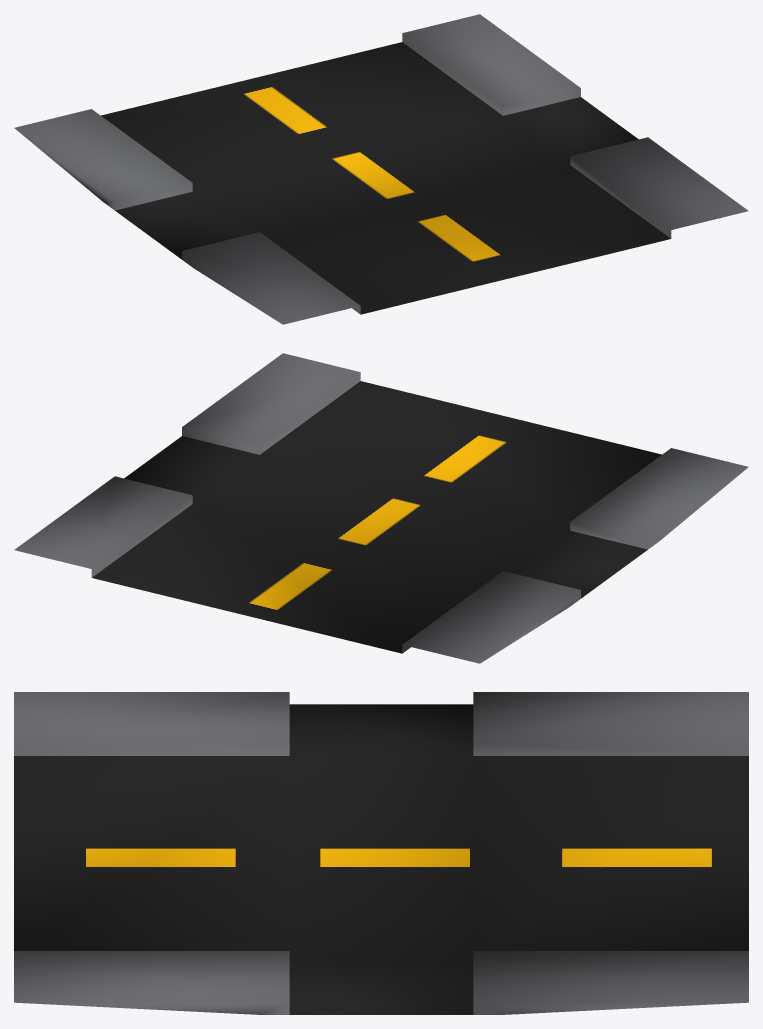
The model's file is Cross.fbx.
The picture shows the model from 3 angles, top to bottom: view 1: azimuth 30°, elevation 25°; view 2: azimuth 150°, elevation 25°; view 3: azimuth 270°, elevation 25°; orthographic projection. The views are drawn at different scales.
Visible parts, largest first — view 1: Cross; view 2: Cross; view 3: Cross.
Boxes of the visible parts, x1,y1,x2,y2 form: Cross: [14, 14, 748, 324]; Cross: [14, 353, 748, 663]; Cross: [14, 692, 748, 1014].
Bounding box in the file's own units: 6 × 0.1105 × 6.
